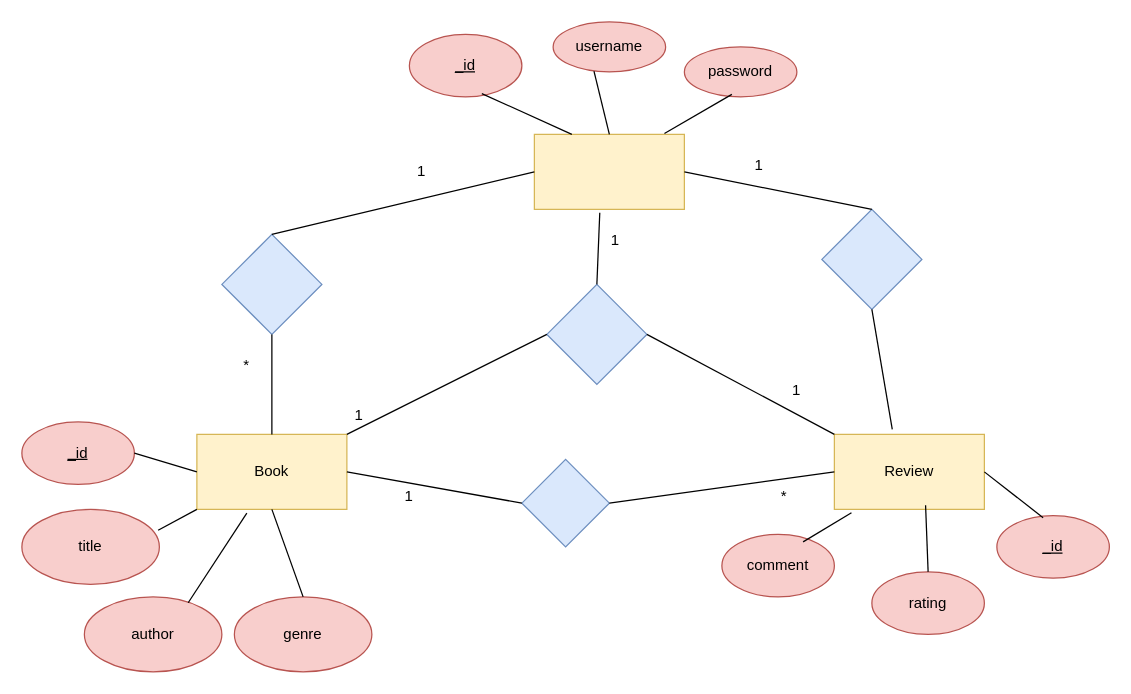
Image size: 1131x694. Some labels were removed from this diagram. The centre of each missing label's shape, as x and y in pixels:
"add" goes at (x=871, y=258).
"can have" goes at (x=596, y=333).
"create" goes at (x=271, y=283).
"linked with" goes at (x=565, y=502).
"User" goes at (x=608, y=171).
